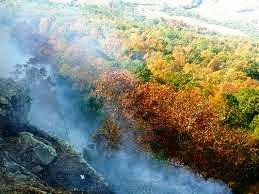smoke: (0, 42, 100, 145), (94, 146, 233, 194)
